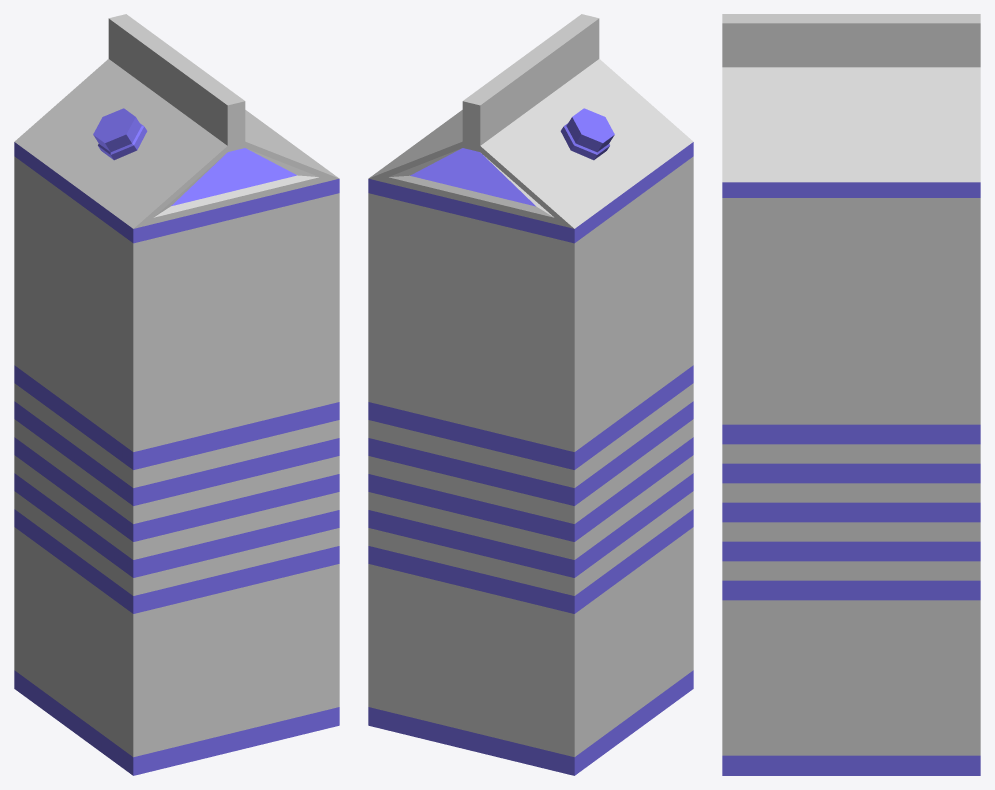
Rendered from Milk.fbx.
3 views of the same model, side by side, from view 1: azimuth 30°, elevation 25°; view 2: azimuth 150°, elevation 25°; view 3: azimuth 270°, elevation 25° (orthographic). The views are drawn at different scales.
Visible parts, largest first — view 1: Milk; view 2: Milk; view 3: Milk.
Boxes of the visible parts, bbox=[...] form: Milk: bbox=[14, 14, 339, 775]; Milk: bbox=[368, 14, 693, 775]; Milk: bbox=[722, 14, 980, 775].
Size of the model in its own units: 0.1 by 0.1 by 0.3.
